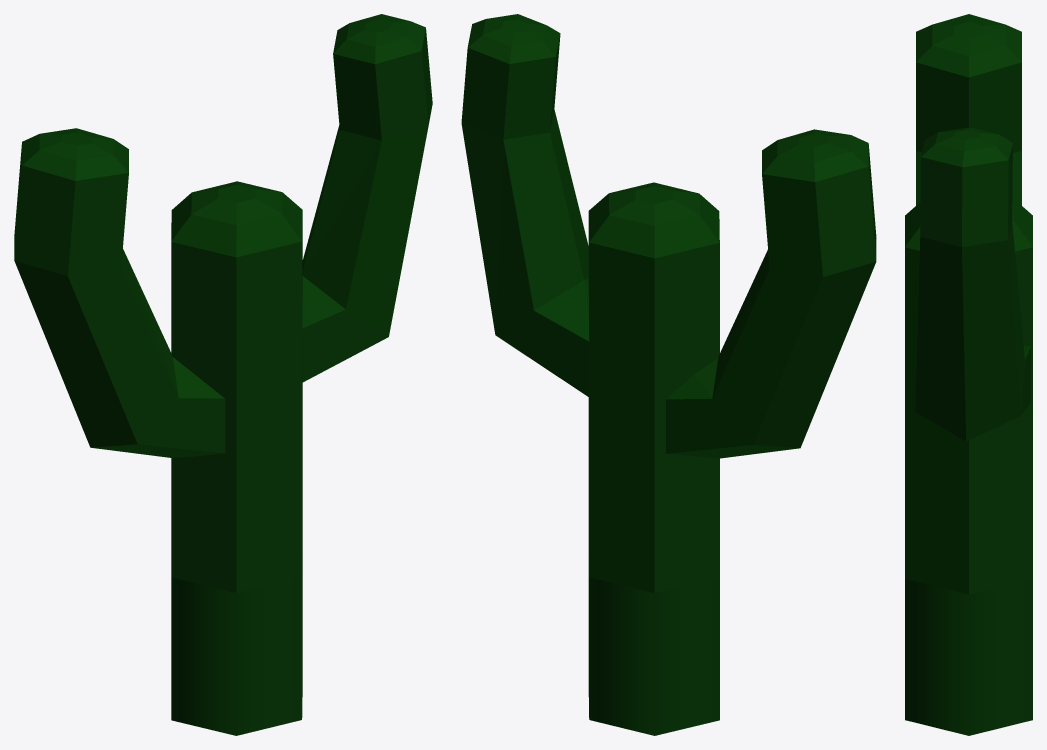
File: CAPTUS.FBX
The picture shows the model from 3 angles, left to right: view 1: azimuth 30°, elevation 25°; view 2: azimuth 150°, elevation 25°; view 3: azimuth 270°, elevation 25°; orthographic projection.
Parts seen in each view (by area): view 1: Cylinder001, Cylinder002, Dummy001; view 2: Cylinder001, Cylinder002, Dummy001; view 3: Cylinder001, Dummy001, Cylinder002.
Boxes of the visible parts, <box> form: Cylinder001: <box>171,181,302,735</box>; Cylinder002: <box>14,128,225,457</box>; Dummy001: <box>302,14,432,382</box>; Cylinder001: <box>588,182,719,735</box>; Cylinder002: <box>666,129,876,458</box>; Dummy001: <box>461,14,589,397</box>; Cylinder001: <box>905,198,1032,735</box>; Dummy001: <box>915,127,1030,441</box>; Cylinder002: <box>916,14,1021,205</box>.
Bounding box in the file's own units: 48.32 × 71.89 × 13.06.
